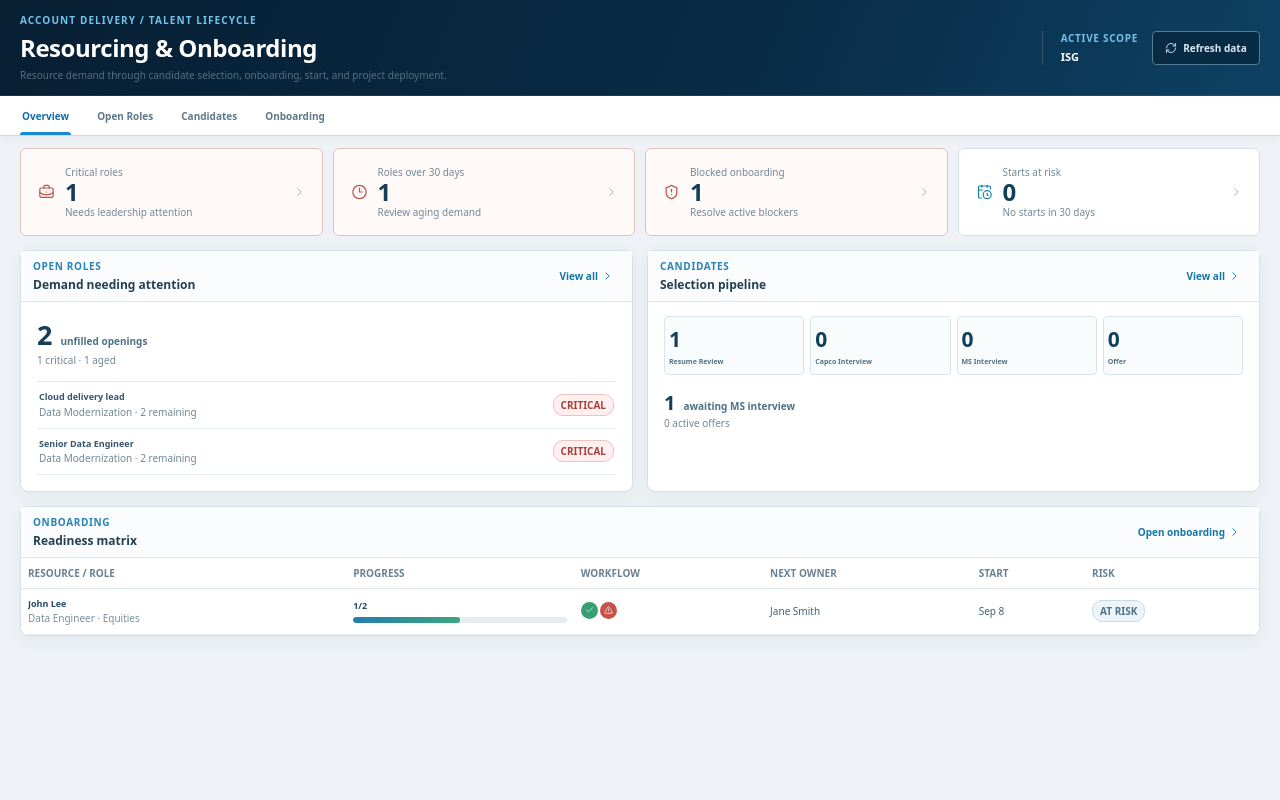
Test: ResourcingView › gates incomplete roles and preselects sourcing-ready roles from the matching queue
Click the button "Open Roles" at (125, 116), box [95,96,155,135]
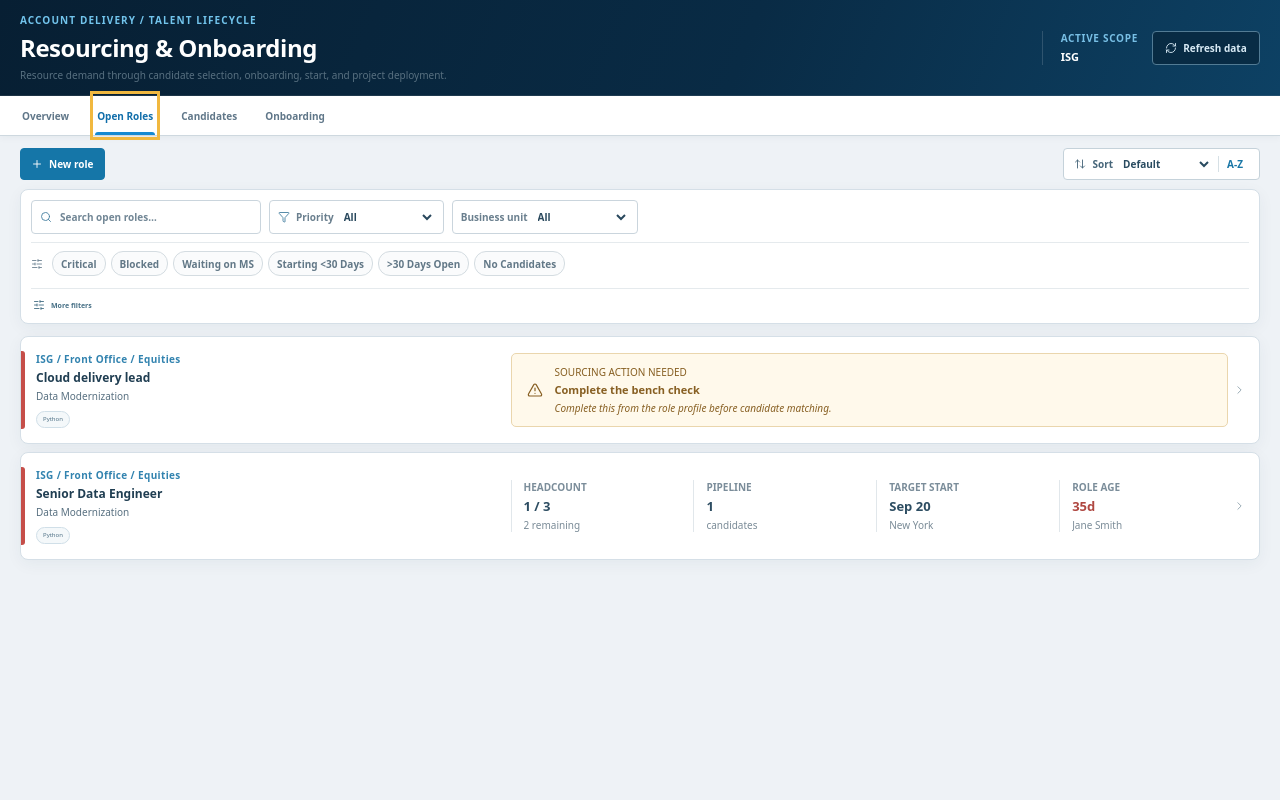
Now the button "Cloud delivery lead" shows "Complete the bench check", box [20,336,1260,444]
Click the button "Candidates" at (209, 116), box [179,96,239,135]
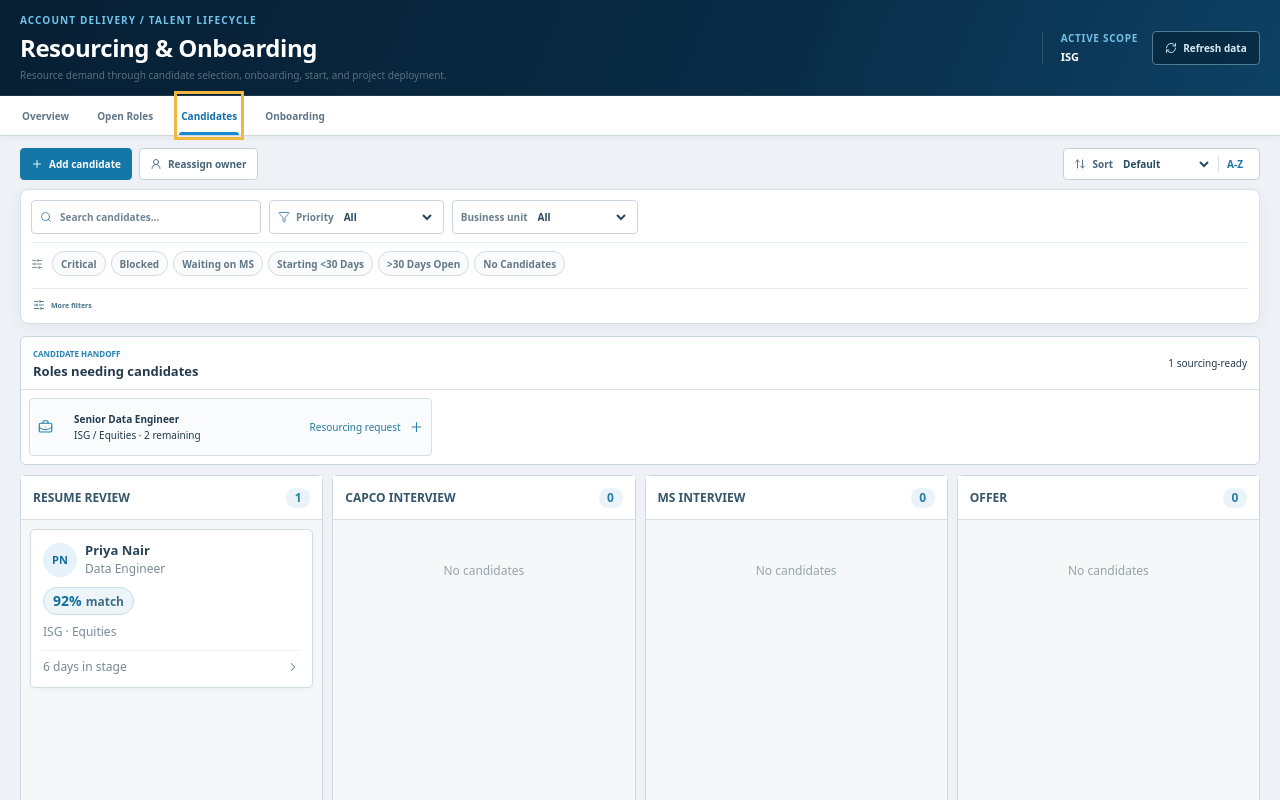
Now the heading "Roles needing candidates" is shown, box [33,362,198,380]
Now the button "Cloud delivery lead" is gone
Click the button that starts with "Senior Data Engineer" at (127, 419), box [29,398,432,456]
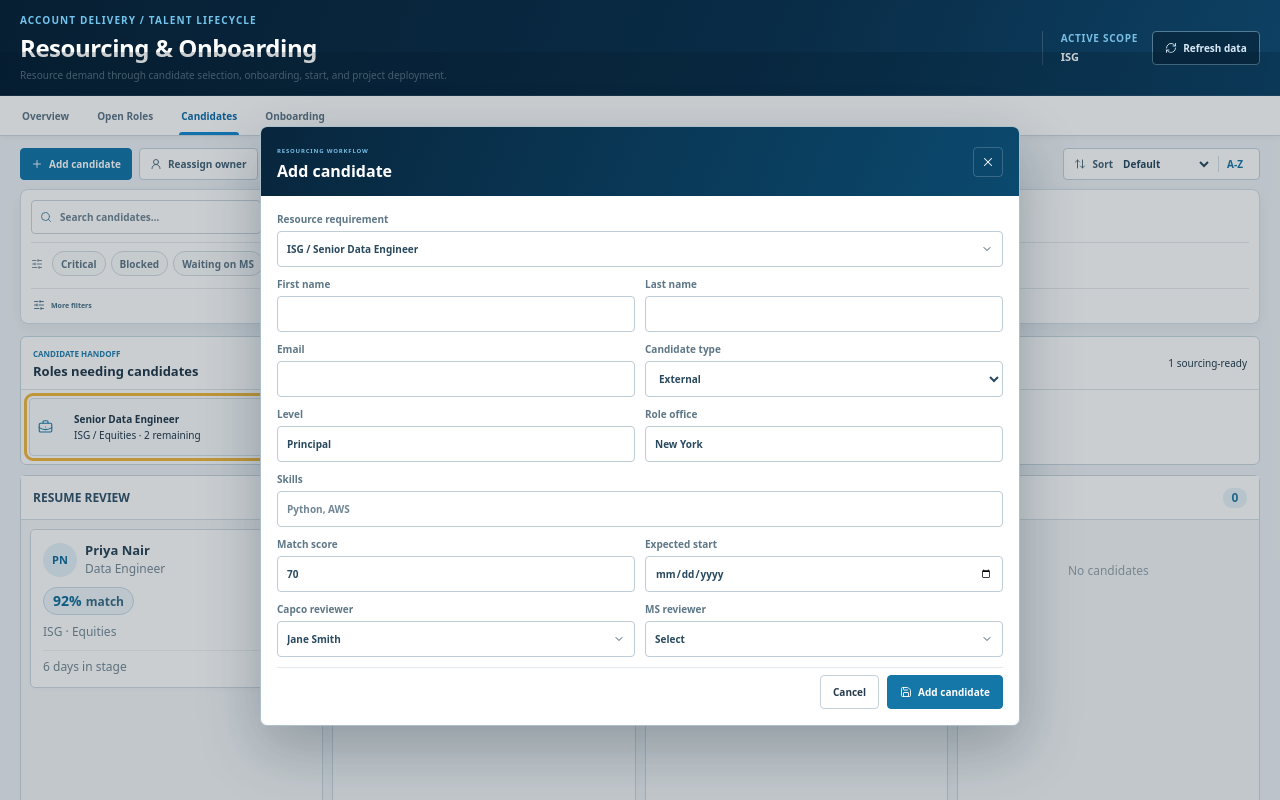
Now the dialog "Add candidate" is shown, box [260,126,1020,726]
Now the button with aria-label "Resource requirement" shows "Senior Data Engineer", box [277,231,1003,267]
